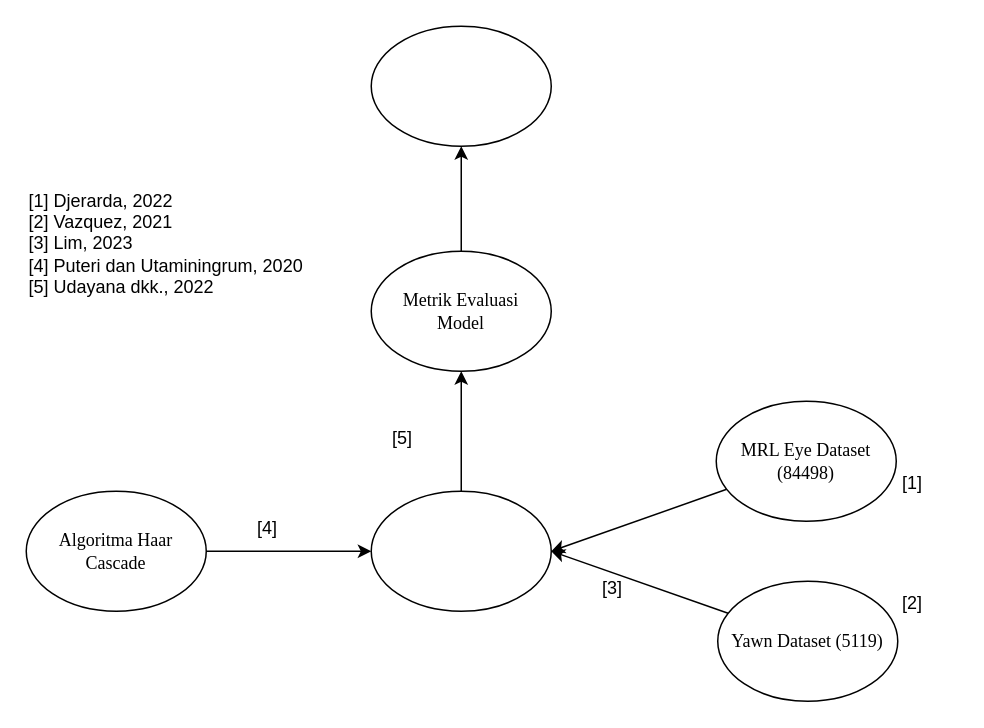
Image size: 984x728. Some labels were removed from this diagram. The shapes that lost their labels are listed below. From the top down, each one's centre as x and y in pixels, then its label:
At point 460,85: "Akurasi Model".
At point 460,550: "Model Sistem Deteksi Kantuk".
